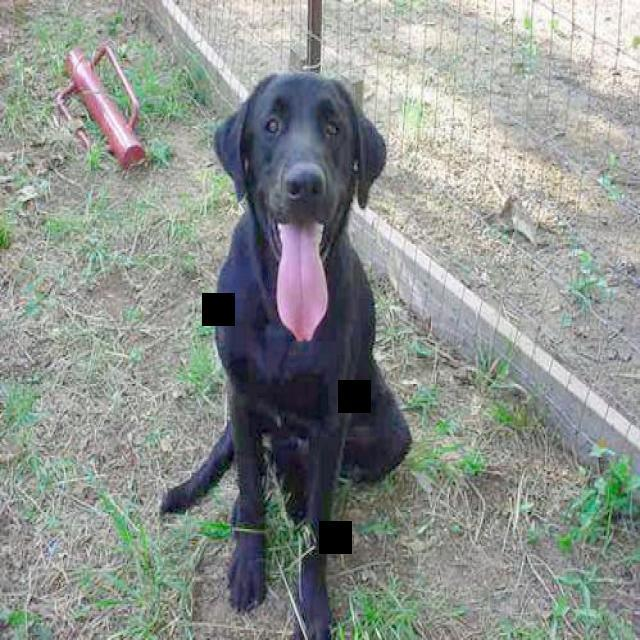adult_dog: (159, 72, 416, 634)
